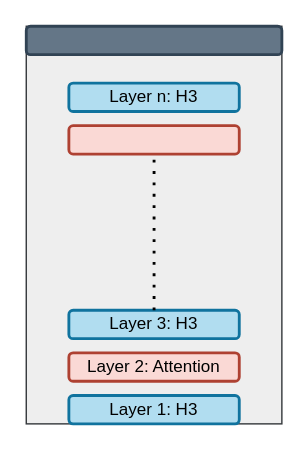
Image size: 307x449. Some labels were removed from this diagram. Each missing label, with the centre of its shape:
"Hybrid H3-Attention" belongs at (x=153, y=39).
"Layer n-1: Attention" belongs at (x=153, y=139).
